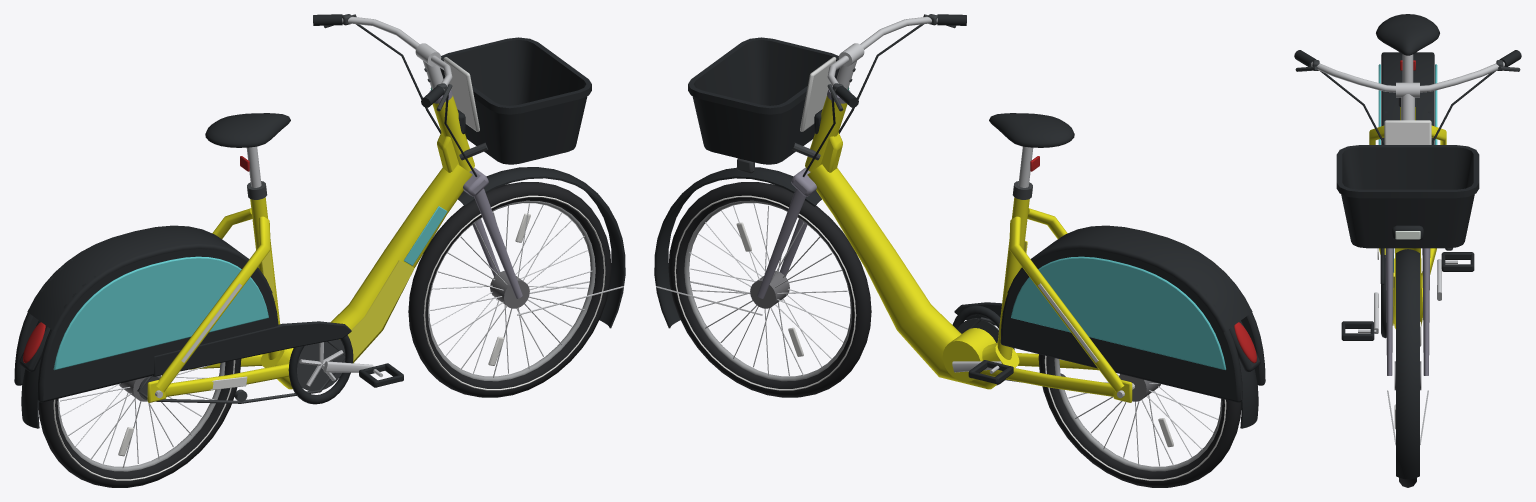
The model's file is sterling-bike-blockout.glb.
3 views of the same model, side by side, from view 1: azimuth 30°, elevation 25°; view 2: azimuth 150°, elevation 25°; view 3: azimuth 270°, elevation 25° (orthographic). The views are drawn at different scales.
Parts seen in each view (by area): view 1: SB_Branding_RearCover_Left, SB_BasketTub, SB_FrontWheel_Tyre, SB_RearWheelCover_Left, SB_RearWheelCover_Crown, SB_Frame_BatteryShell, SB_RearWheel_Tyre, SB_ChainGuard, SB_FrontMudguard, SB_FrontWheel, SB_Saddle, SB_RearStay_Left (+18 smaller); view 2: SB_Branding_RearCover_Right, SB_BasketTub, SB_FrontWheel_Tyre, SB_RearWheelCover_Right, SB_Frame_BatteryShell, SB_RearWheelCover_Crown, SB_RearWheel_Tyre, SB_FrontMudguard, SB_FrontWheel, SB_Saddle, SB_RearStay_Right, SB_FrontWheel_Rim (+13 smaller); view 3: SB_BasketTub, SB_FrontMudguard, SB_RearWheelCover_Crown, SB_Saddle, SB_Handlebar, SB_HeadUnitPanel, SB_Fork_Left, SB_Fork_Right, SB_Frame_BatteryShell, SB_ChainringGuard, SB_Stem, SB_HandlebarClamp (+4 smaller).
Part boxes in pixels (x1,y1,x2,y2): SB_Branding_RearCover_Left: [53, 256, 268, 369]; SB_BasketTub: [440, 37, 591, 164]; SB_FrontWheel_Tyre: [408, 182, 611, 397]; SB_RearWheelCover_Left: [37, 245, 278, 402]; SB_RearWheelCover_Crown: [27, 225, 272, 332]; SB_Frame_BatteryShell: [260, 164, 472, 389]; SB_RearWheel_Tyre: [38, 359, 241, 487]; SB_ChainGuard: [153, 321, 351, 376]; SB_FrontMudguard: [458, 167, 625, 328]; SB_FrontWheel: [430, 203, 592, 377]; SB_Saddle: [205, 113, 290, 147]; SB_RearStay_Left: [155, 216, 270, 391]; SB_Branding_RearCover_Right: [1011, 256, 1226, 369]; SB_BasketTub: [688, 37, 839, 164]; SB_FrontWheel_Tyre: [668, 182, 871, 397]; SB_RearWheelCover_Right: [1000, 245, 1242, 402]; SB_Frame_BatteryShell: [807, 164, 1019, 389]; SB_RearWheelCover_Crown: [1007, 225, 1252, 332]; SB_RearWheel_Tyre: [1038, 354, 1241, 487]; SB_FrontMudguard: [654, 167, 821, 328]; SB_FrontWheel: [689, 203, 850, 375]; SB_Saddle: [989, 113, 1074, 147]; SB_RearStay_Right: [1009, 216, 1124, 391]; SB_FrontWheel_Rim: [684, 200, 851, 381]; SB_BasketTub: [1336, 145, 1479, 248]; SB_FrontMudguard: [1396, 249, 1419, 479]; SB_RearWheelCover_Crown: [1381, 52, 1434, 144]; SB_Saddle: [1376, 14, 1439, 55]; SB_Handlebar: [1311, 62, 1504, 92]; SB_HeadUnitPanel: [1384, 120, 1431, 144]; SB_Fork_Left: [1385, 248, 1393, 375]; SB_Fork_Right: [1422, 248, 1430, 375]; SB_Frame_BatteryShell: [1394, 248, 1422, 328]; SB_ChainringGuard: [1381, 255, 1386, 338]; SB_Stem: [1401, 94, 1414, 120]; SB_HandlebarClamp: [1396, 82, 1419, 97].
Bounding box in the file's own units: 2.12 × 1.26 × 0.7188.
